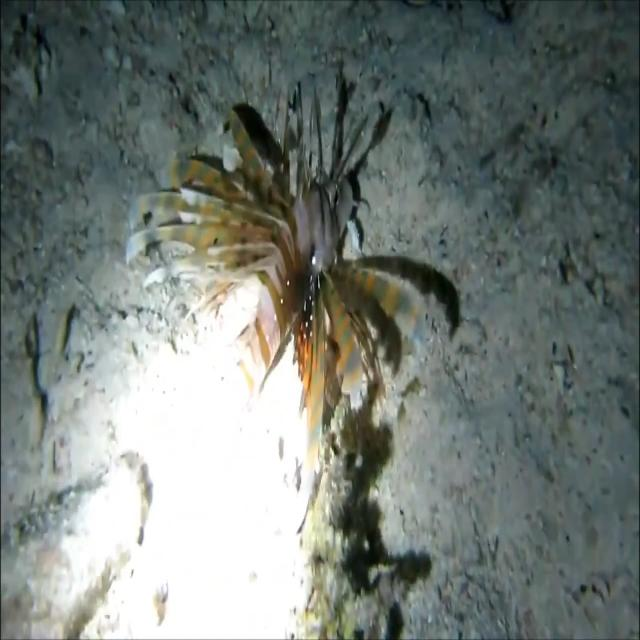Lionfish -Endangered- -Poisonous-: (138, 78, 411, 402)
